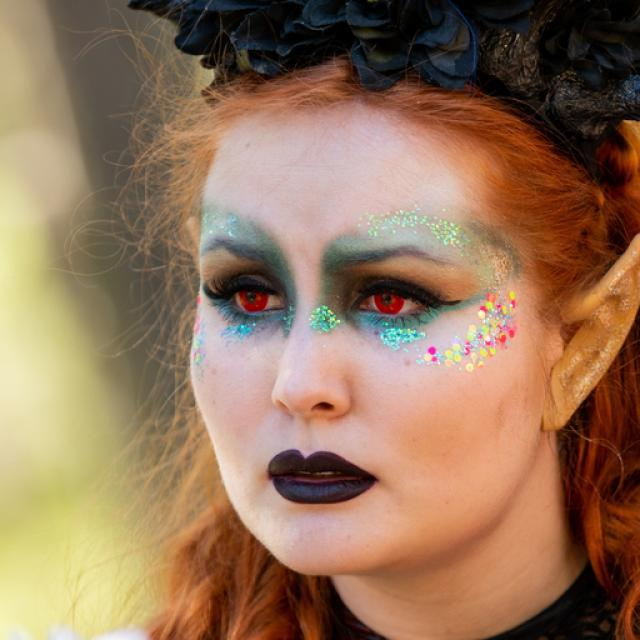anger: (190, 100, 551, 580)
